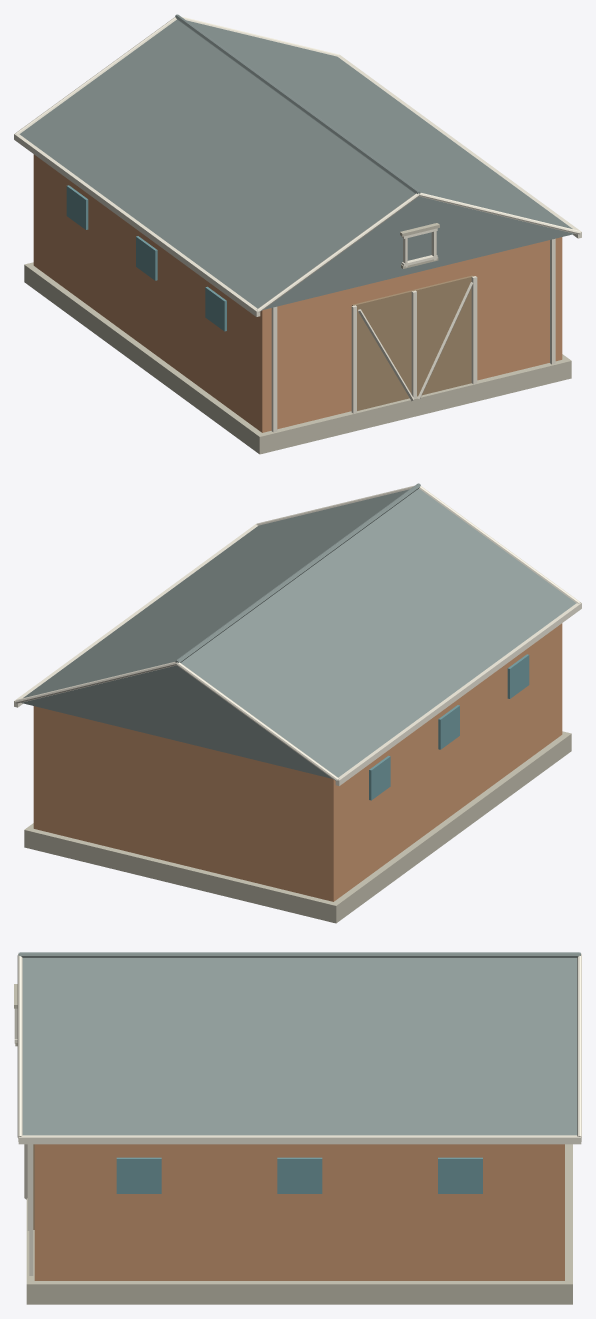
3 renders of one model, top to bottom at view 1: azimuth 30°, elevation 25°; view 2: azimuth 150°, elevation 25°; view 3: azimuth 270°, elevation 25°, orthographic. The views are drawn at different scales.
Bounding box in the file's own units: 13.56 × 9.05 × 17.66.
